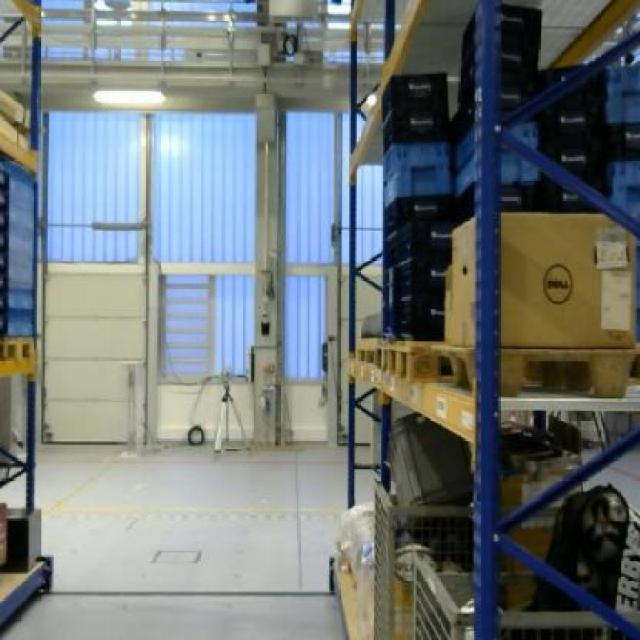box: (448, 210, 636, 347)
